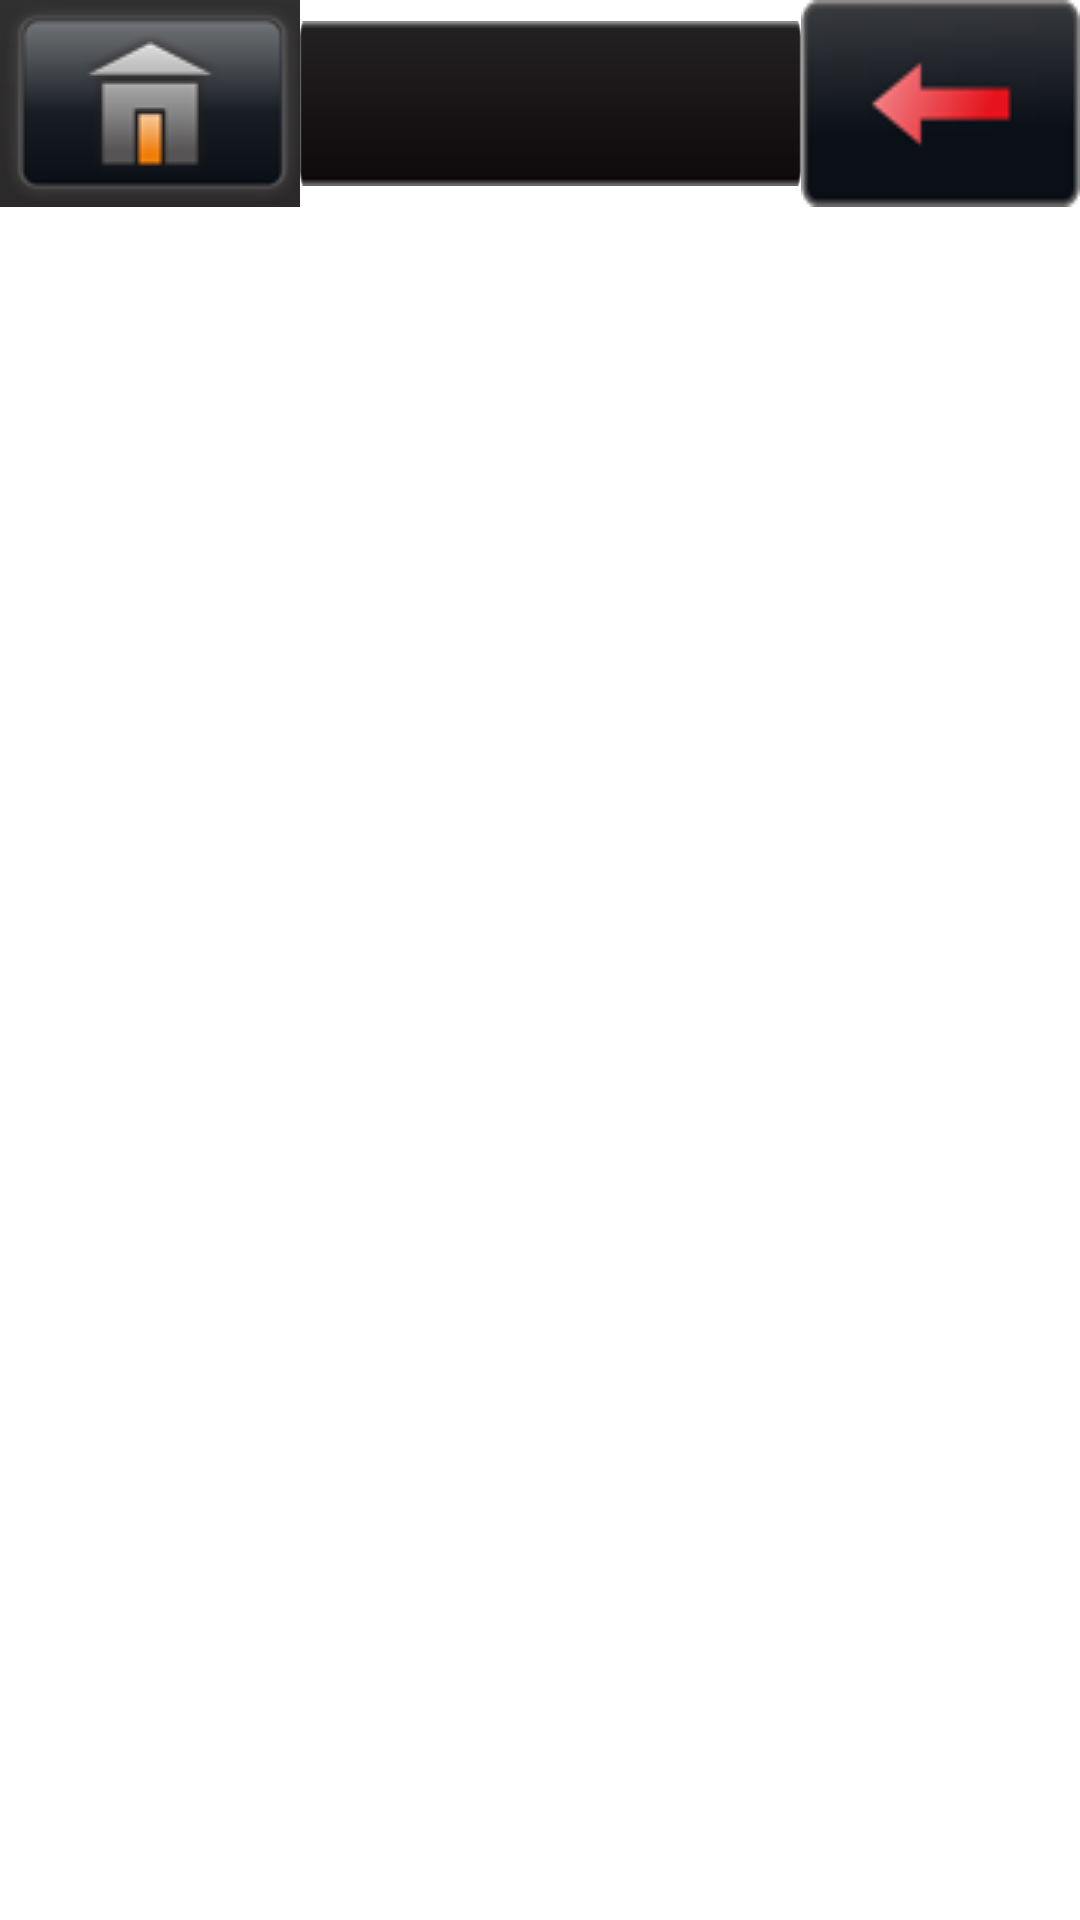

Locate icon controls on the screen. Image size 1080x1920, boxes as (x1, y1, x2, y2).
bluetooth home: (0, 0, 300, 207)
